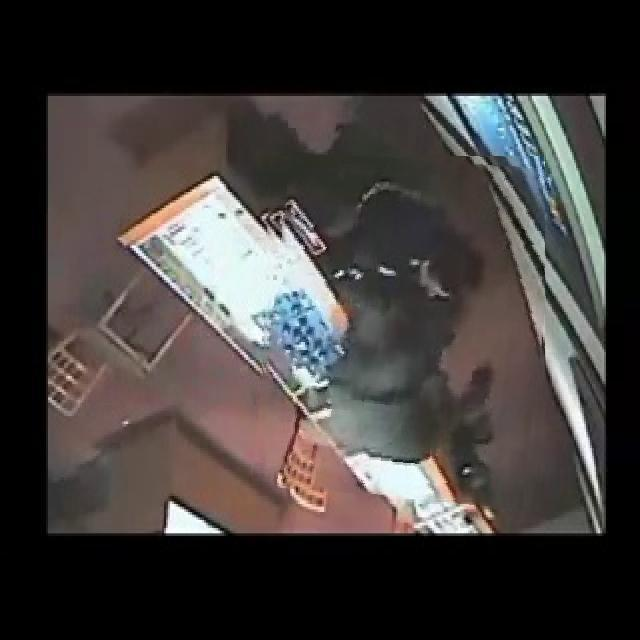Shoplifting: (259, 156, 545, 503)
